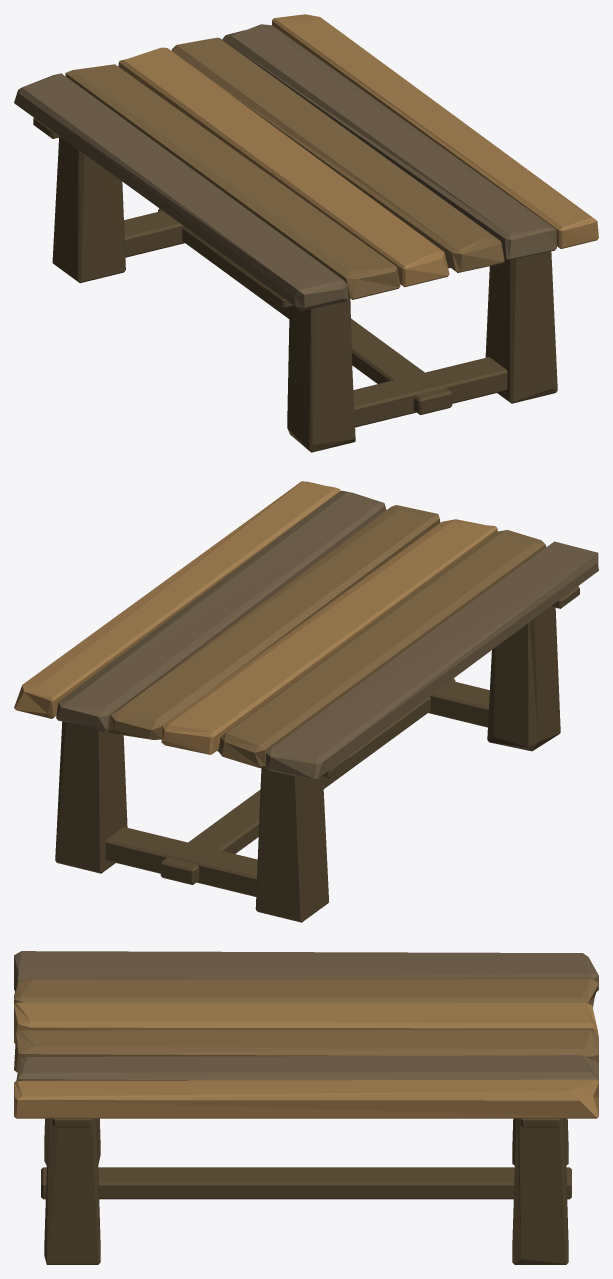
Rendered from Table.glb.
The picture shows the model from 3 angles, top to bottom: view 1: azimuth 30°, elevation 25°; view 2: azimuth 150°, elevation 25°; view 3: azimuth 270°, elevation 25°; orthographic projection.
Parts seen in each view (by area): view 1: world; view 2: world; view 3: world.
Boxes of the visible parts, x1,y1,x2,y2 form: world: (14, 14, 598, 452); world: (14, 481, 598, 922); world: (14, 951, 598, 1264).
Size of the model in its own units: 300 by 171 by 500.
